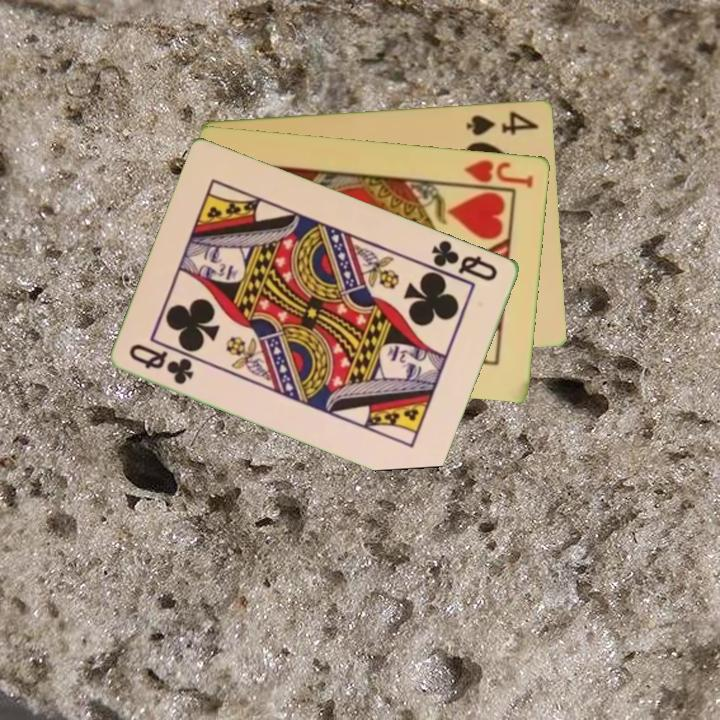4s: (463, 107, 541, 138)
Jh: (461, 156, 537, 191)
Qc: (428, 236, 501, 284), (125, 340, 198, 388)
